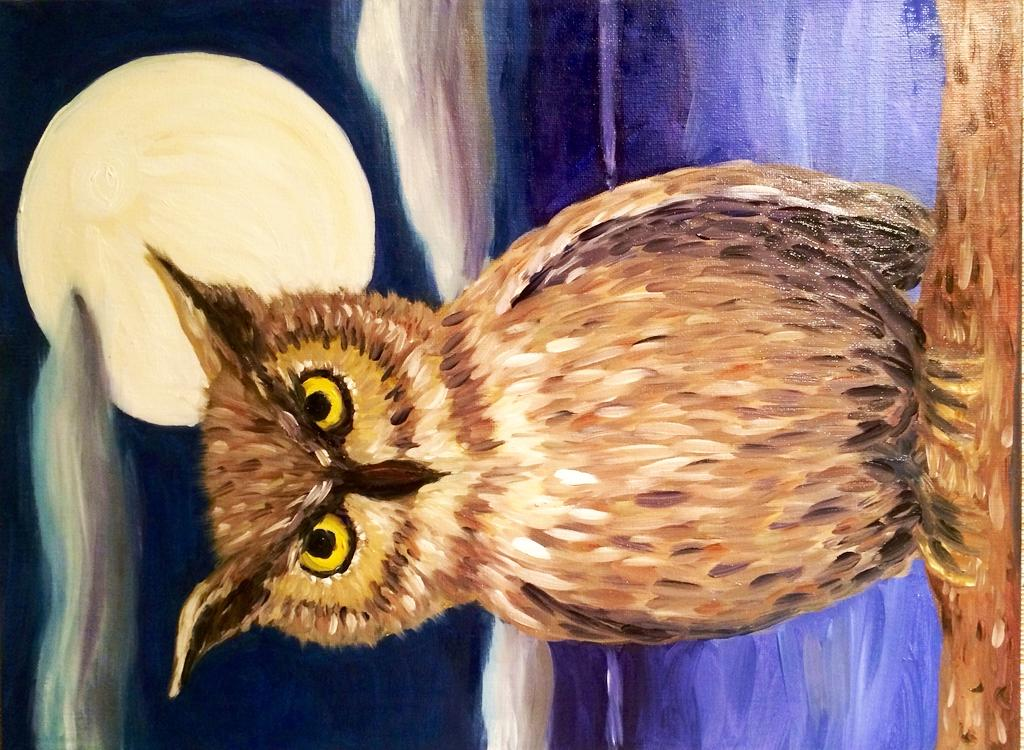Owl: (136, 149, 980, 700)
